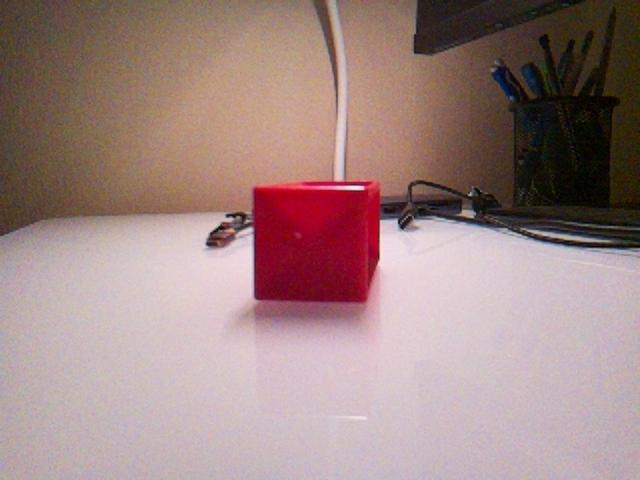red: (251, 179, 382, 304)
